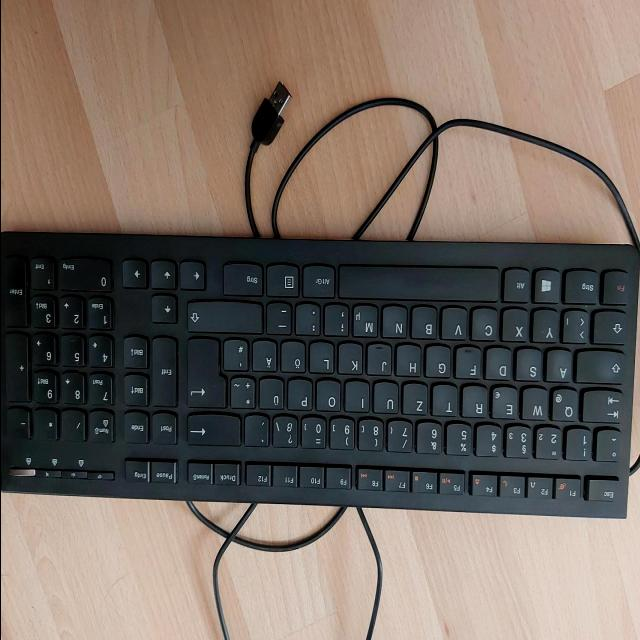0: (300, 415, 326, 449)
1: (564, 426, 592, 461)
2: (534, 425, 562, 460)
3: (504, 424, 532, 459)
4: (474, 422, 502, 457)
5: (445, 421, 473, 456)
6: (416, 420, 442, 454)
7: (387, 418, 413, 452)
8: (357, 418, 383, 452)
9: (329, 417, 355, 451)
a: (545, 348, 573, 383)
accent: (244, 414, 270, 448)
ae: (251, 339, 277, 371)
alt-left: (503, 268, 531, 303)
altgr-right: (301, 264, 335, 298)
b: (411, 305, 437, 339)
c: (472, 307, 500, 342)
caret: (594, 428, 622, 463)
comma: (323, 304, 349, 338)
d: (485, 347, 513, 381)
del: (186, 412, 242, 446)
e: (491, 385, 519, 420)
enter: (187, 336, 227, 408)
f: (456, 346, 482, 379)
g: (425, 344, 451, 378)
h: (395, 344, 421, 378)
hash: (222, 338, 248, 370)
i: (345, 381, 371, 413)
j: (368, 342, 394, 376)
k: (337, 341, 363, 375)
keyboard: (0, 219, 640, 529)
l: (310, 341, 336, 374)
less: (561, 309, 589, 344)
m: (353, 304, 379, 338)
minus: (265, 301, 291, 335)
n: (381, 305, 407, 339)
o: (317, 379, 343, 413)
oe: (281, 340, 307, 373)
p: (288, 379, 314, 412)
plus: (229, 377, 255, 409)
point: (294, 301, 320, 335)
q: (550, 386, 578, 421)
r: (462, 385, 489, 418)
s: (516, 348, 544, 382)
shift-left: (591, 309, 627, 347)
shift-lock: (575, 348, 626, 386)
shift-right: (186, 298, 263, 334)
space: (337, 263, 500, 303)
ss: (272, 414, 298, 448)
strg-left: (564, 269, 599, 305)
strg-right: (222, 261, 265, 297)
t: (432, 384, 459, 417)
tab: (581, 387, 625, 425)
u: (374, 381, 400, 415)
ue: (260, 378, 286, 410)
v: (441, 306, 469, 341)
w: (521, 386, 549, 421)
x: (502, 307, 530, 342)
y: (531, 308, 559, 343)
z: (403, 382, 429, 416)
